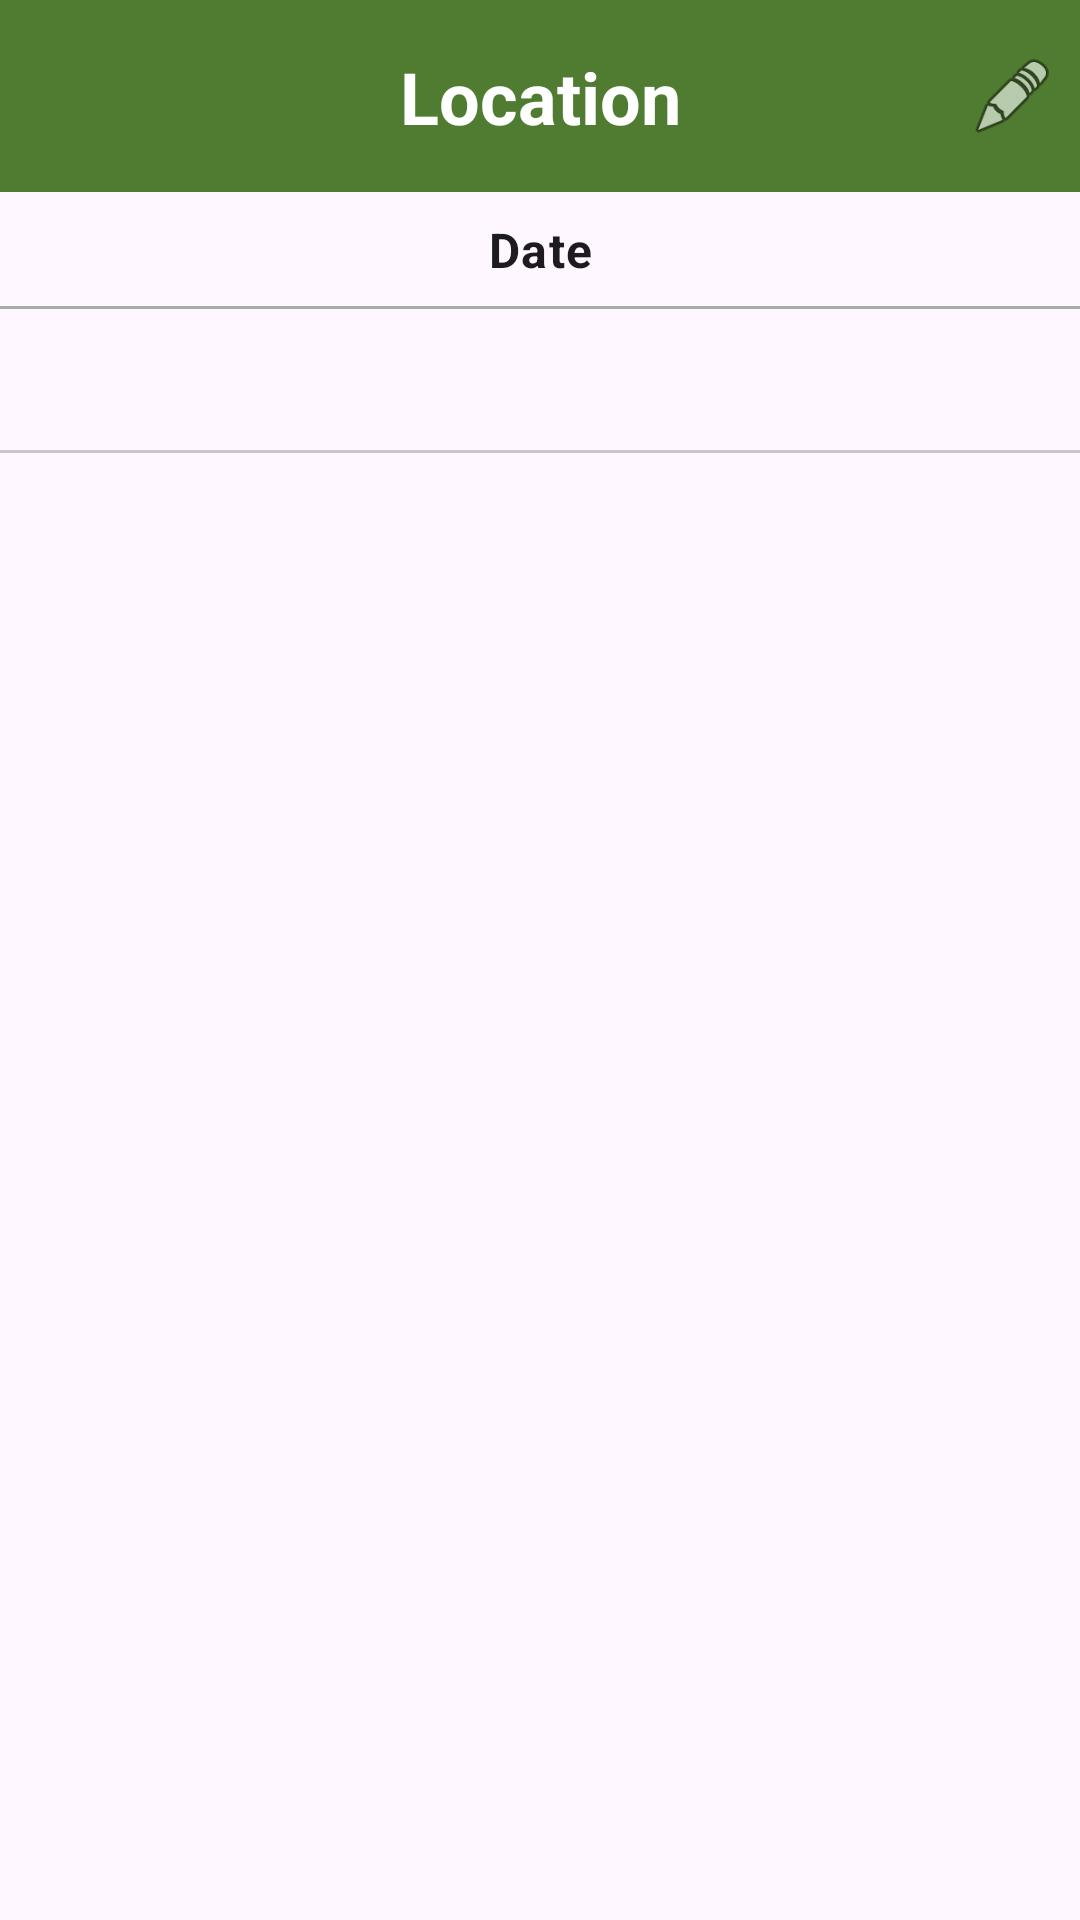

Locate icon controls on the screen. Image size 1080px x 1920px, boxes as (left=x1, top=y1, right=x2, bottom=y2).
Edit Icon: (left=976, top=59, right=1049, bottom=133)
